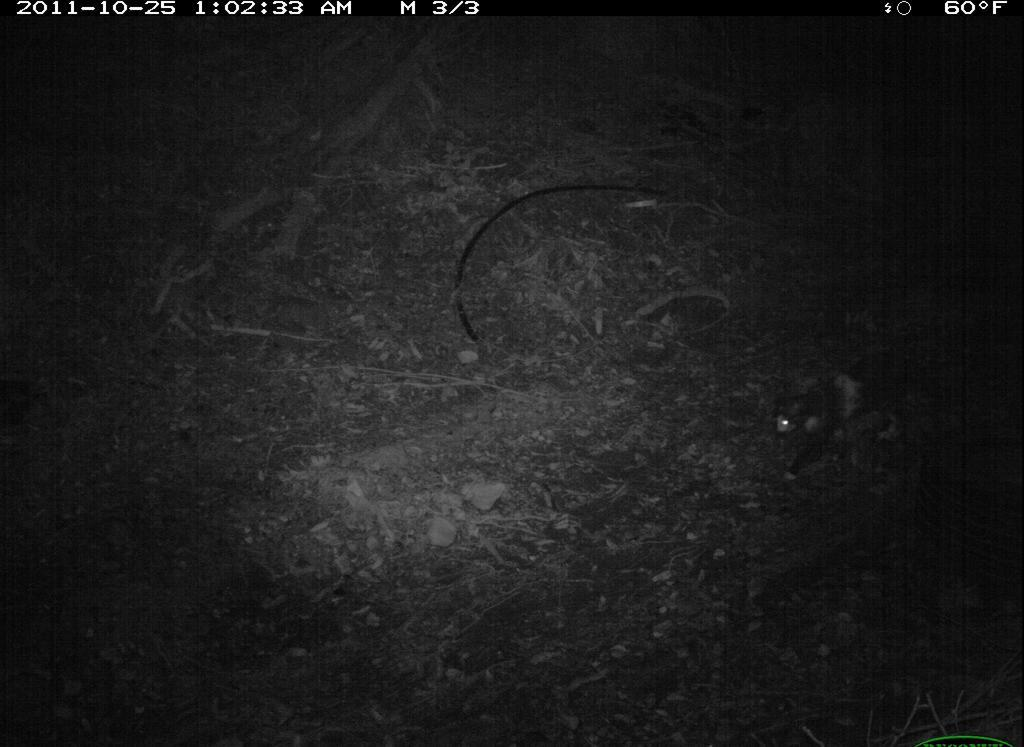cat: (762, 333, 958, 487)
